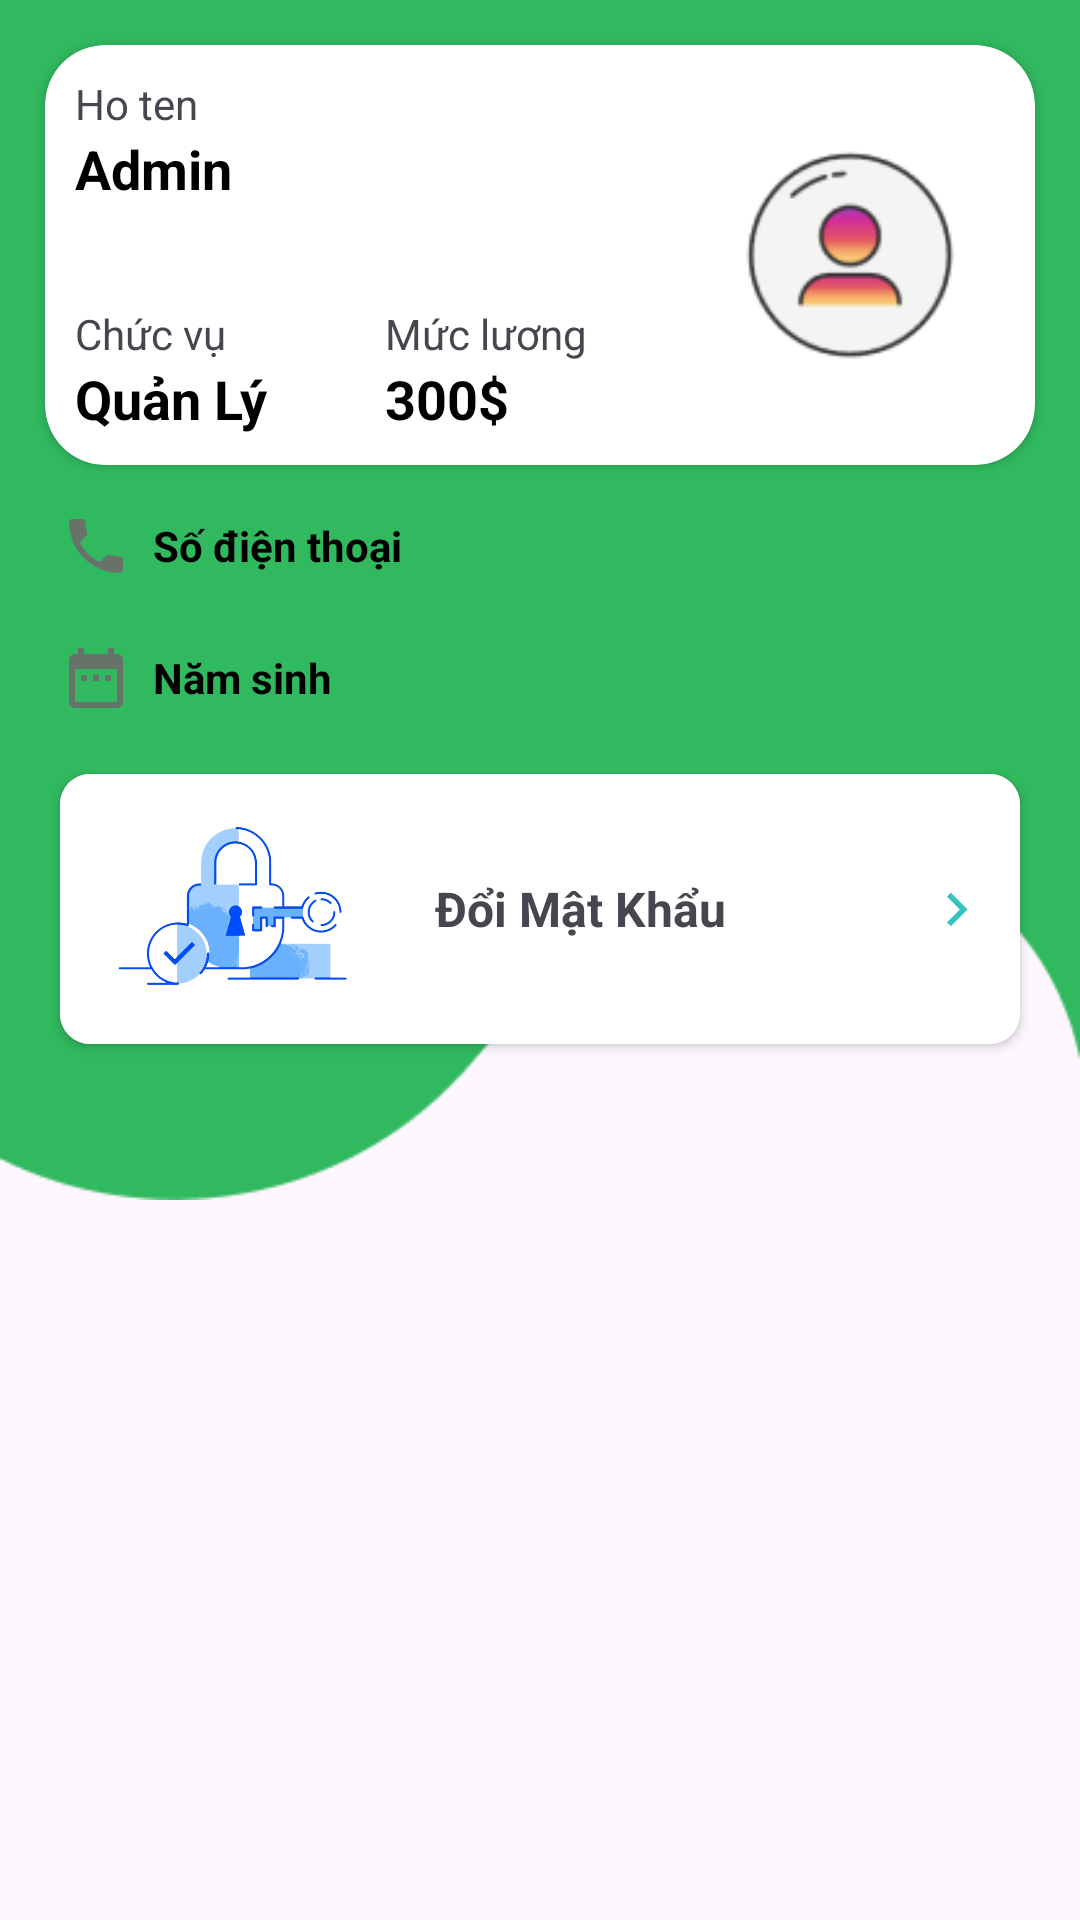

Point at icon controls on the screen. Image size 1080px x 1920px, points as point (x, y).
change password: point (232, 906)
date range: point (96, 678)
navigate next: point (957, 909)
phone: point (96, 546)
